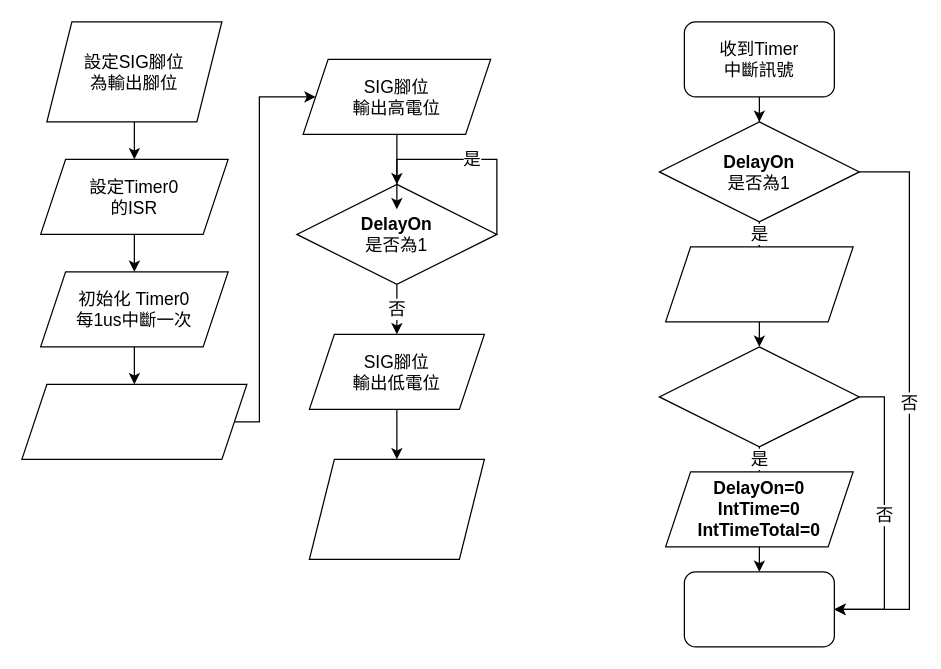
Some shapes in this 941 by 669 pixel diagram are drawn without their labels. The centre of each missing label's shape, as x and y in pixels:
IntTime ++: [758,284]
IntTime 是否等於 IntTimeTotal: [758,396]
令 IntTimeLimit=5 DelayOn=1 IntTime=0: [134,421]
設定SIG腳位 為輸入腳位: [396,508]
離開ISR: [758,609]
